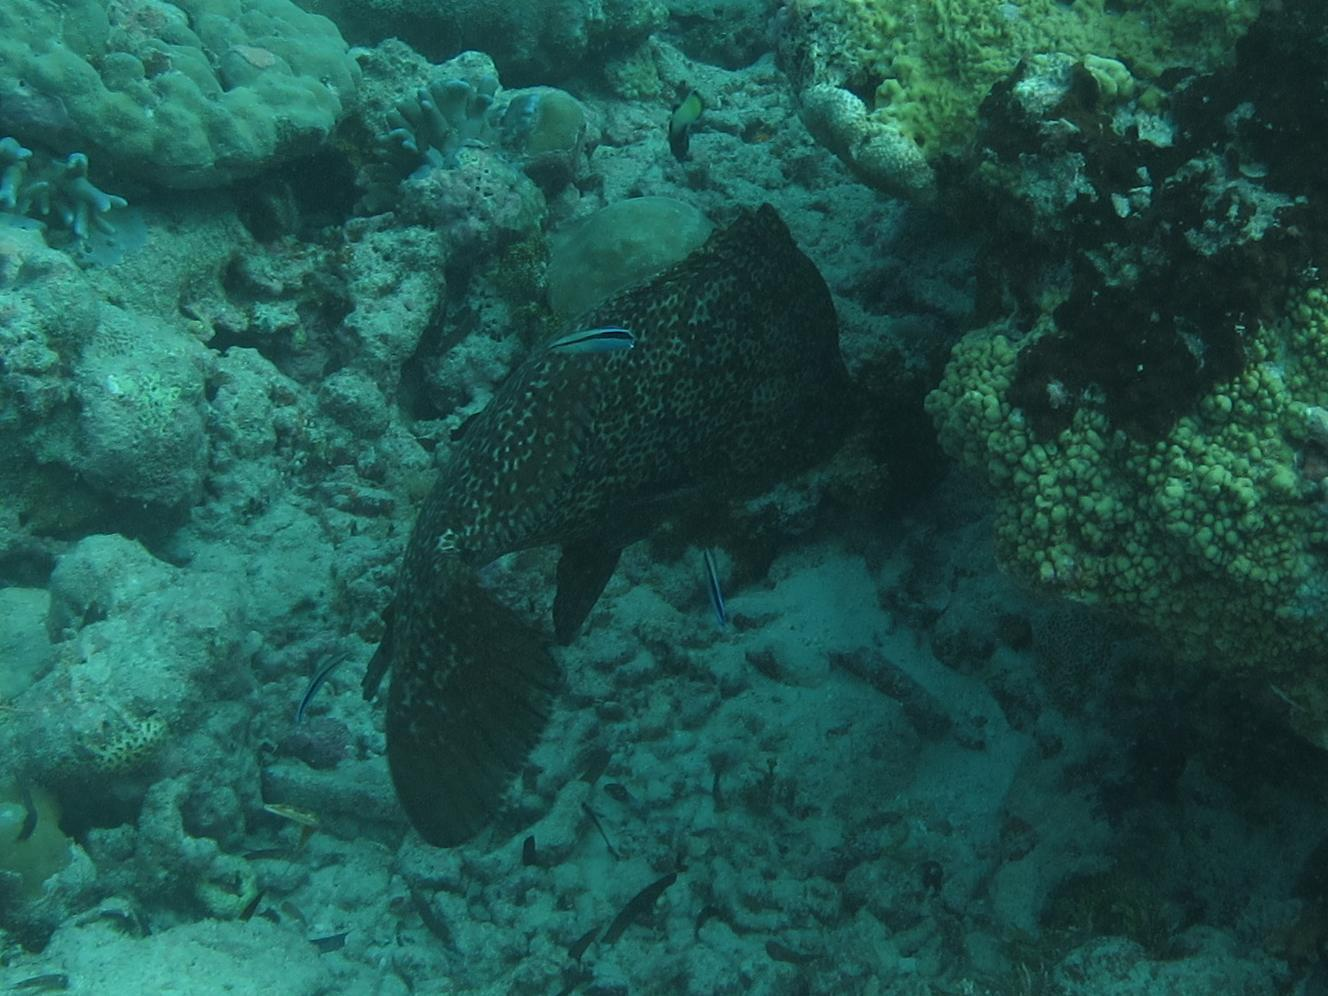Fish: (277, 150, 912, 864)
